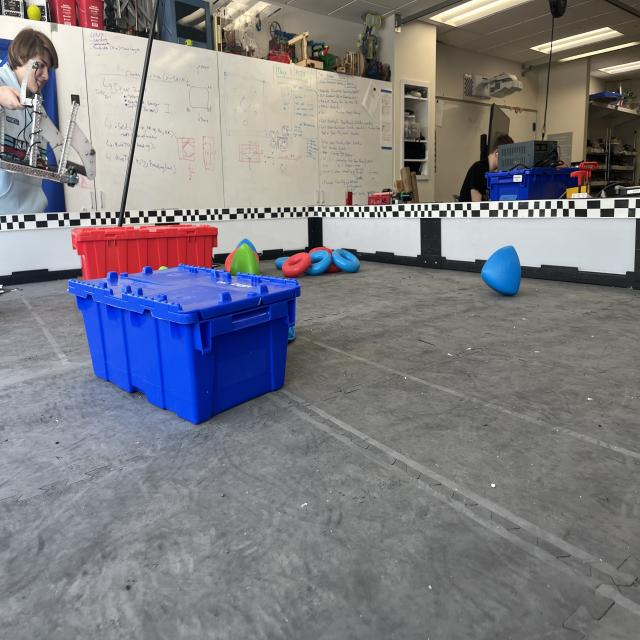Blue-Ring: (331, 248, 360, 273), (305, 250, 331, 275)
Red-Ring: (282, 252, 311, 278)
